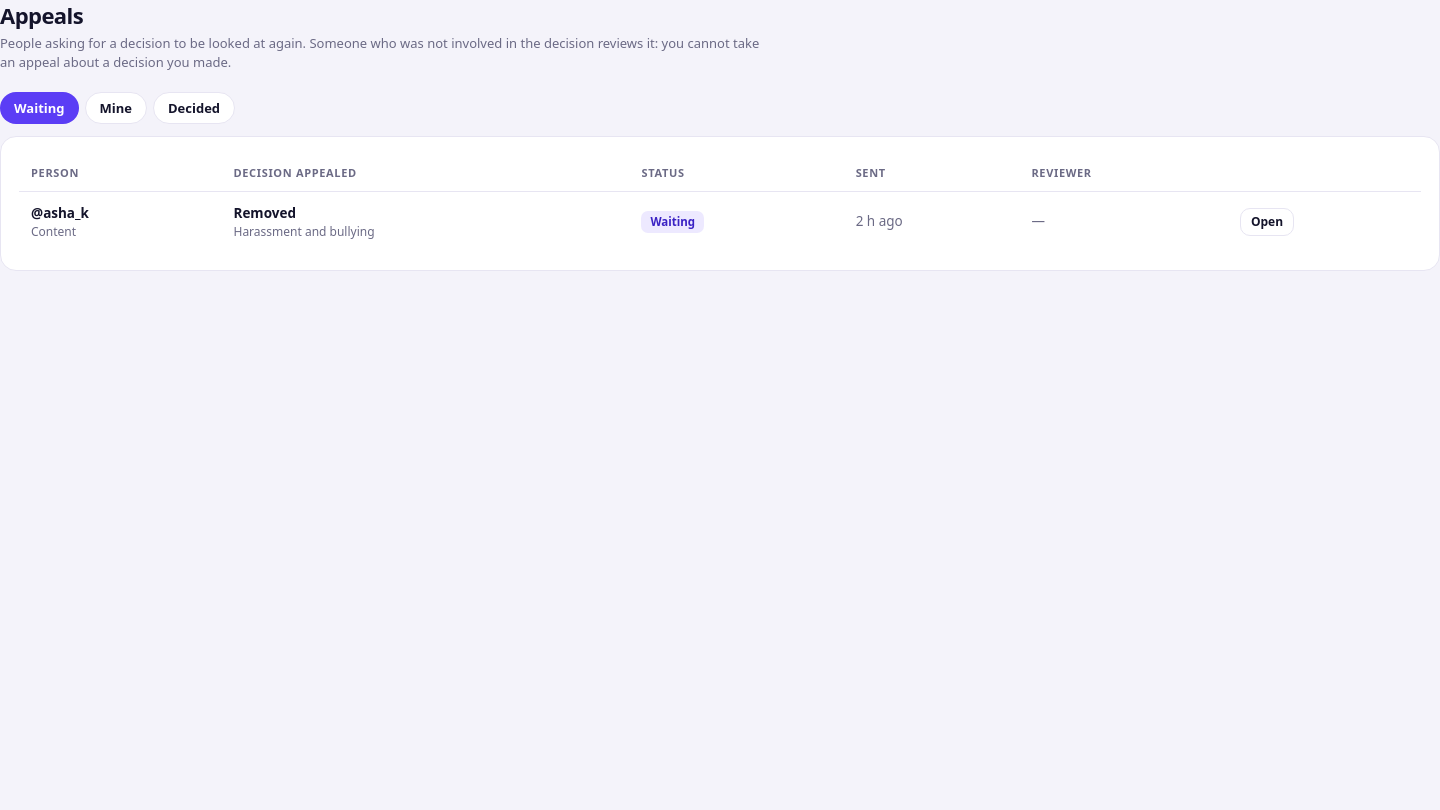
Test: one appeal › tells the person who made the decision that someone else has to review it
Click the button with aria-label "Open appeal from asha_k" at x=1267, y=222, box [1240,208,1294,236]
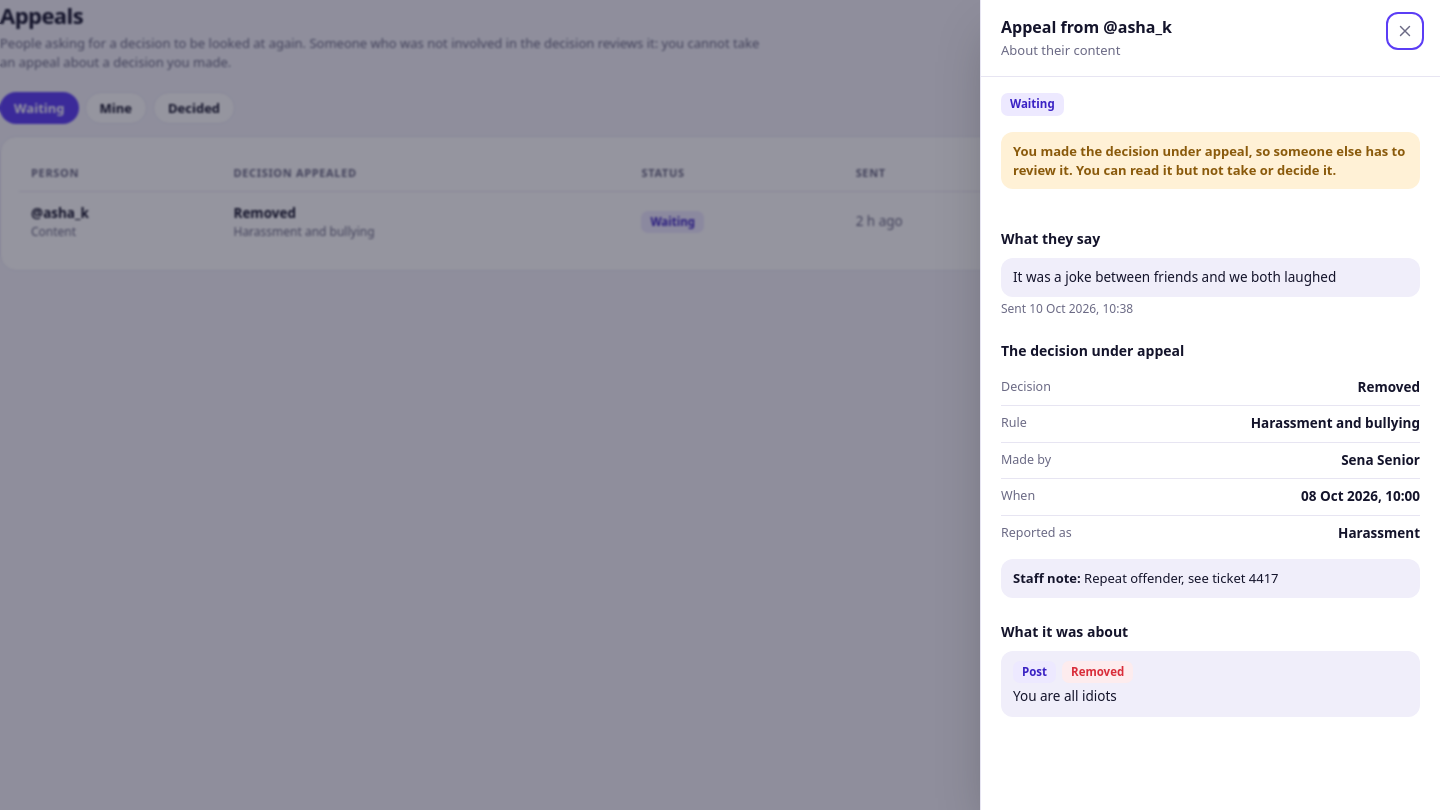
Expected: the dialog "Appeal from @asha_k" is shown, [980,0,1439,809]
Expected: the text "You made the decision under appeal, so someone else has to review it" is shown, [1013,142,1405,178]
